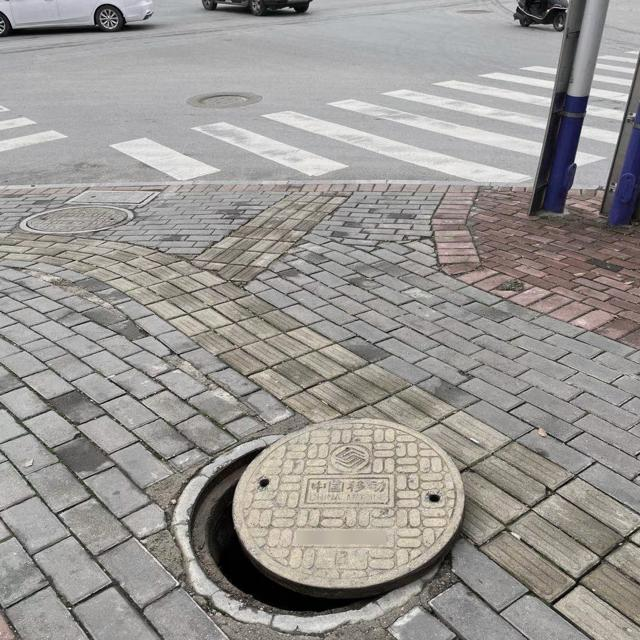uncovered: (171, 417, 466, 633)
